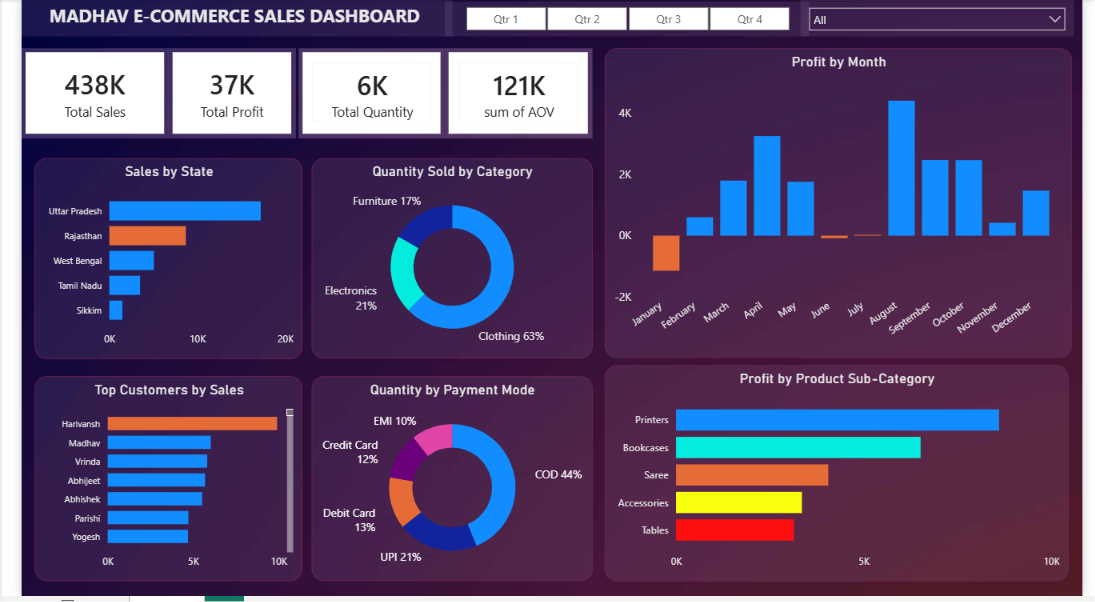

The page's visual inventory and layout, read from the dashboard file:
{"tool":"powerbi","page":{"name":"Page 1","canvas":[1280,720],"ordinal":0},"visuals":[{"type":"columnChart","title":"Profit by Month","fields":{"Y":["Sum(Details.Profit)"],"Category":["Orders.Order Date.Variation.Date Hierarchy.Month"]},"box":[703,59,564,374],"z":0},{"type":"barChart","title":"Profit by Product Sub-Category","fields":{"Category":["Details.Sub-Category"],"Y":["Sum(Details.Profit)"]},"box":[703.4,441.6,559.8,260.6],"z":1000},{"type":"donutChart","title":"Quantity Sold by Category","fields":{"Category":["Details.Category"],"Y":["Sum(Details.Quantity)"]},"box":[349.9,191.8,339,241.3],"z":2000},{"type":"donutChart","title":"Quantity by Payment Mode","fields":{"Category":["Details.PaymentMode"],"Y":["Sum(Details.Quantity)"]},"box":[349.9,454.8,339,247.3],"z":3000},{"type":"textbox","box":[0,0,520,44.6],"z":4000},{"type":"cardVisual","fields":{"Data":["Sum(Details.Amount)"]},"box":[0,59.1,177.3,108.6],"z":5000},{"type":"cardVisual","fields":{"Data":["Sum(Details.Profit)"]},"box":[177.3,59.1,153.2,108.6],"z":6000},{"type":"cardVisual","fields":{"Data":["Sum(Details.Quantity)"]},"box":[334.2,59.1,176.1,108.6],"z":7000},{"type":"cardVisual","fields":{"Data":["Sum(Details.AOV)"]},"box":[510.3,59.1,178.6,108.6],"z":8000},{"type":"barChart","title":"Sales by State","fields":{"Category":["Orders.State"],"Y":["Sum(Details.Amount)"]},"box":[15.7,191.8,323.3,242.5],"z":9000},{"type":"barChart","title":"Top Customers by Sales","fields":{"Category":["Orders.CustomerName"],"Y":["Sum(Details.Amount)"]},"box":[15.7,454.8,323.3,247.3],"z":10000},{"type":"slicer","fields":{"Values":["Orders.Order Date.Variation.Date Hierarchy.Quarter"]},"box":[510.3,2.4,440.4,42.2],"z":11000},{"type":"slicer","fields":{"Values":["Orders.State"]},"box":[939.8,0,329.4,44.6],"z":12000}]}

Visuals, with their boxes in screenshot pixels (x1, y1, x2, y2), scaled from the page's 1280x720 canvas onto the 1095x602 screenshot:
"Profit by Month" columnChart: bbox=(601, 49, 1084, 362)
"Profit by Product Sub-Category" barChart: bbox=(602, 369, 1081, 587)
"Quantity Sold by Category" donutChart: bbox=(299, 160, 589, 362)
"Quantity by Payment Mode" donutChart: bbox=(299, 380, 589, 587)
textbox: bbox=(0, 0, 445, 37)
cardVisual - Sum(Details.Amount): bbox=(0, 49, 152, 140)
cardVisual - Sum(Details.Profit): bbox=(152, 49, 283, 140)
cardVisual - Sum(Details.Quantity): bbox=(286, 49, 437, 140)
cardVisual - Sum(Details.AOV): bbox=(437, 49, 589, 140)
"Sales by State" barChart: bbox=(13, 160, 290, 363)
"Top Customers by Sales" barChart: bbox=(13, 380, 290, 587)
slicer - Orders.Order Date.Variation.Date Hierarchy.Quarter: bbox=(437, 2, 813, 37)
slicer - Orders.State: bbox=(804, 0, 1086, 37)
